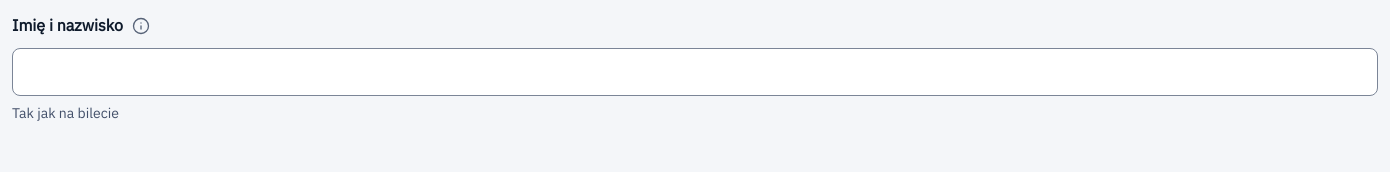
TextInput with a character allowlist › never shows disallowed characters while typing
Type "Jan 😀 Kowalski" into the field labelled "Imię i nazwisko".
click(695, 72); type("Jan 😀 Kowalski")  # box 12,48 -> 1378,96
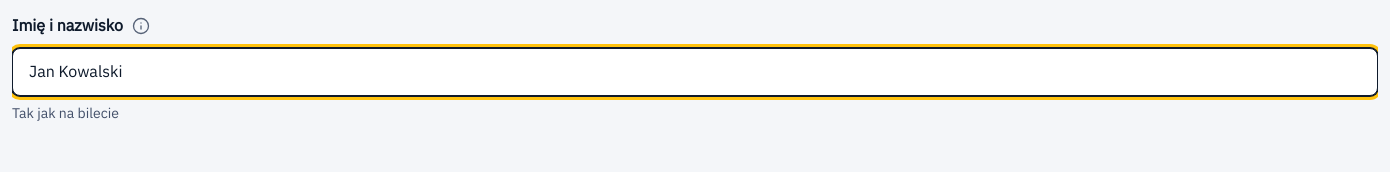
Check: the field labelled "Imię i nazwisko" holds "Jan Kowalski", box 12,48 -> 1378,96
